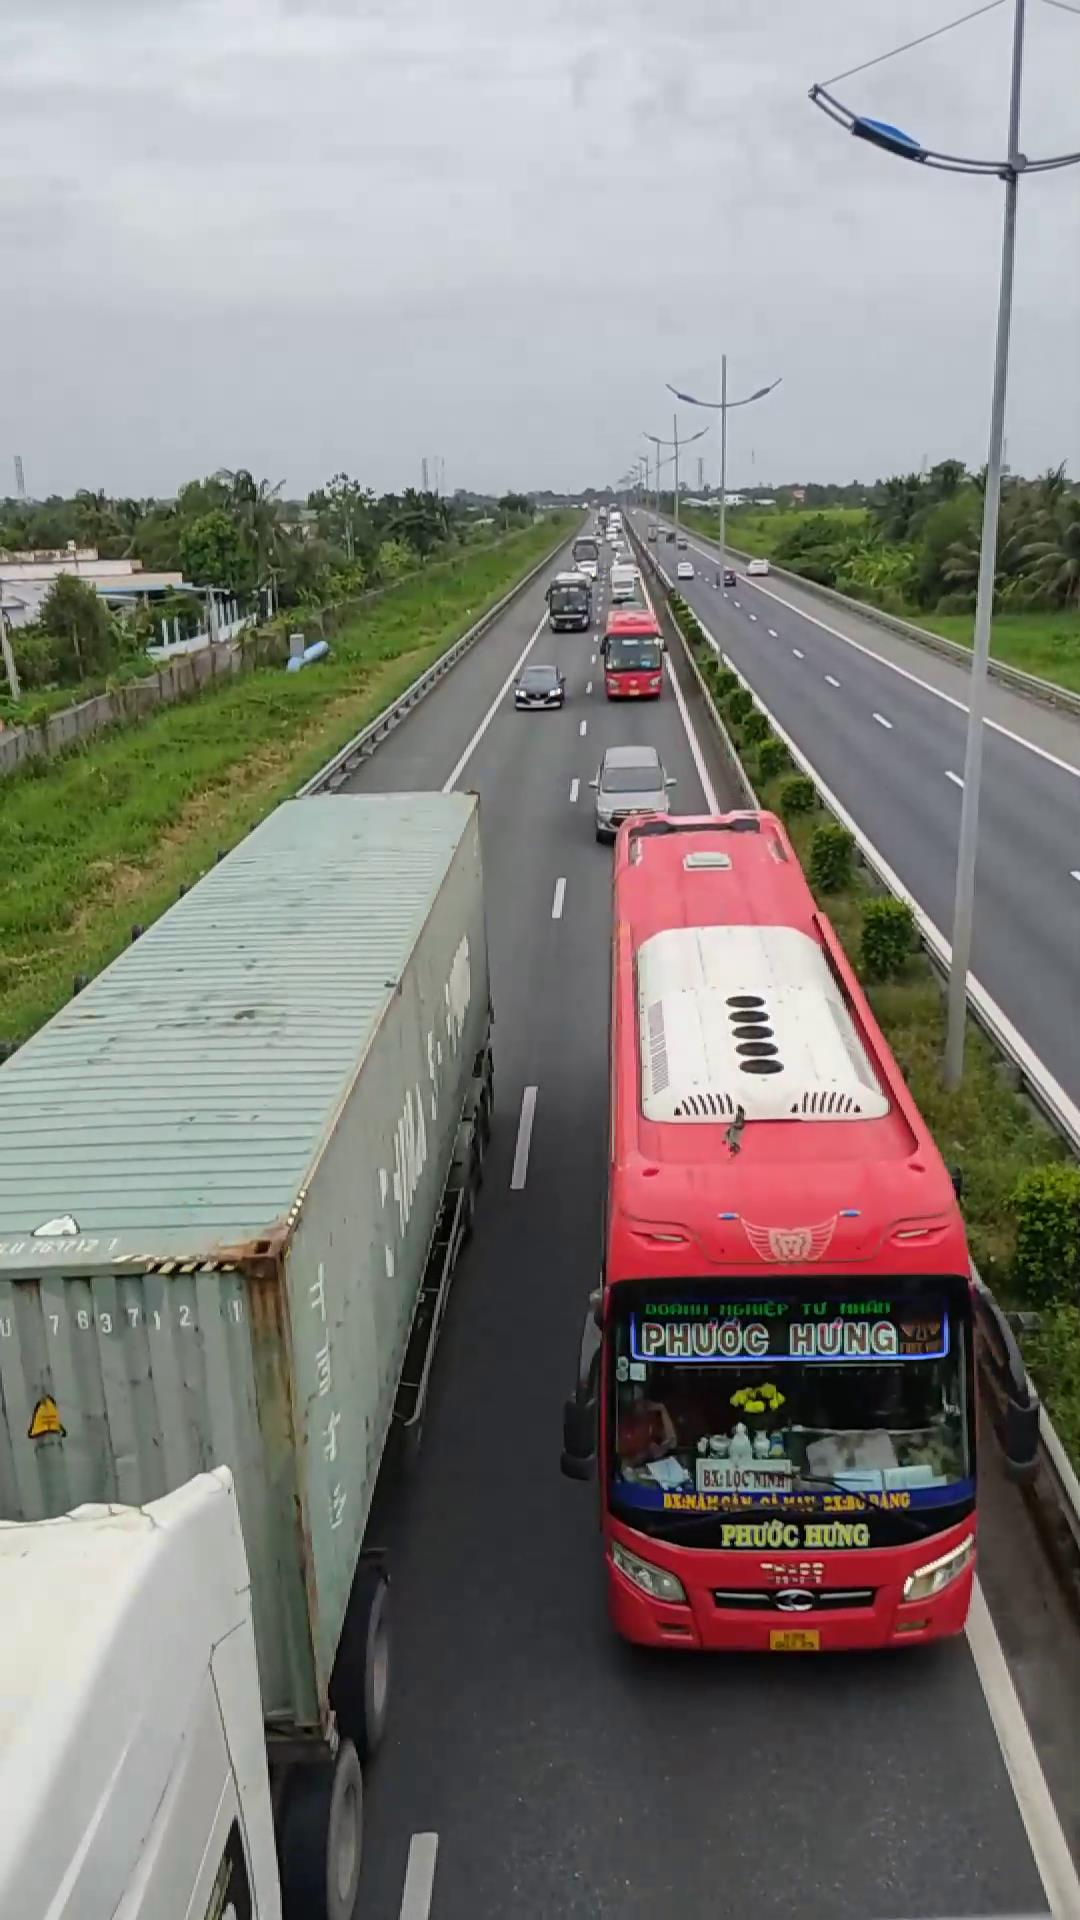car: (567, 793, 984, 1658)
container: (0, 783, 498, 1920)
